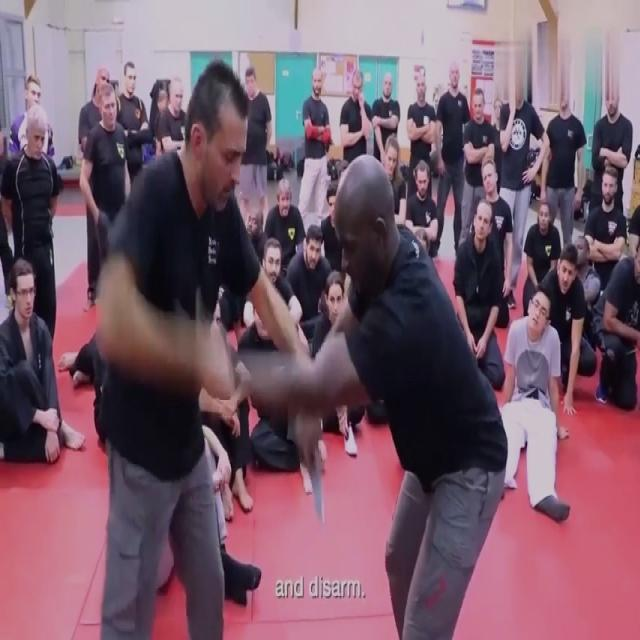fight: (95, 59, 507, 639)
non-fight: (496, 283, 574, 524), (0, 252, 65, 468), (79, 71, 132, 312), (541, 88, 585, 253), (435, 64, 471, 263), (590, 82, 632, 210)
